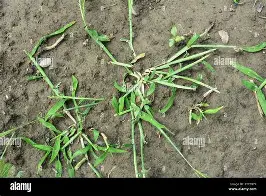weed: (30, 22, 238, 172)
